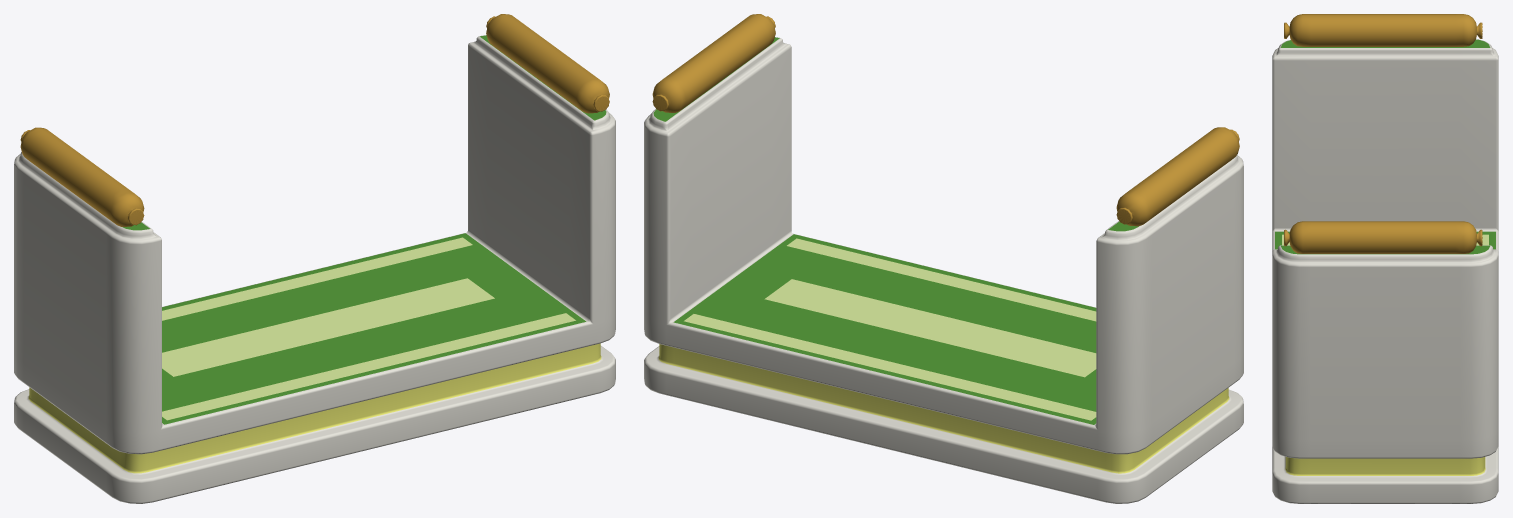
The model's file is SM_Platform_03.fbx.
3 renders of one model, left to right at view 1: azimuth 30°, elevation 25°; view 2: azimuth 150°, elevation 25°; view 3: azimuth 270°, elevation 25°, orthographic. The views are drawn at different scales.
Visible parts, largest first — view 1: SM_Platform_03, SM_Platform_Sausage_03; view 2: SM_Platform_03, SM_Platform_Sausage_03; view 3: SM_Platform_03, SM_Platform_Sausage_03.
Part boxes in pixels (box(x1,y1,x2,y2)): SM_Platform_03: box(14, 35, 615, 503); SM_Platform_Sausage_03: box(20, 14, 609, 226); SM_Platform_03: box(644, 37, 1243, 503); SM_Platform_Sausage_03: box(652, 14, 1239, 226); SM_Platform_03: box(1272, 39, 1498, 503); SM_Platform_Sausage_03: box(1284, 14, 1482, 253).
Size of the model in its own units: 1404 by 806 by 604.
